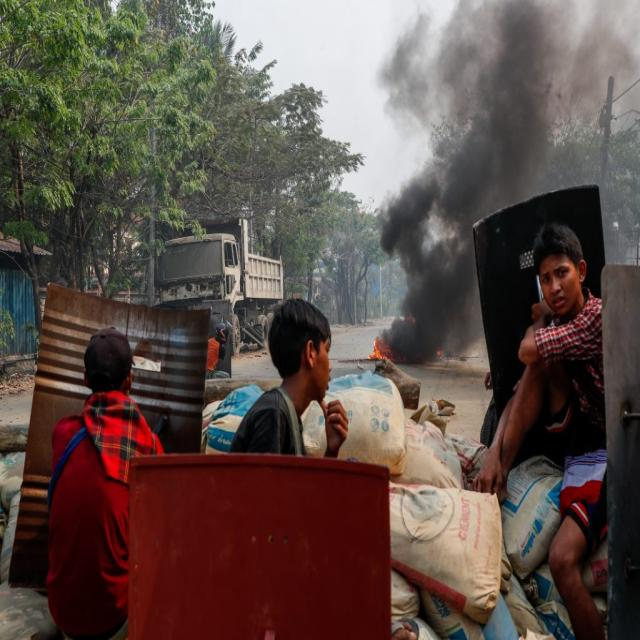smoke: (435, 17, 618, 150), (406, 196, 466, 340)
